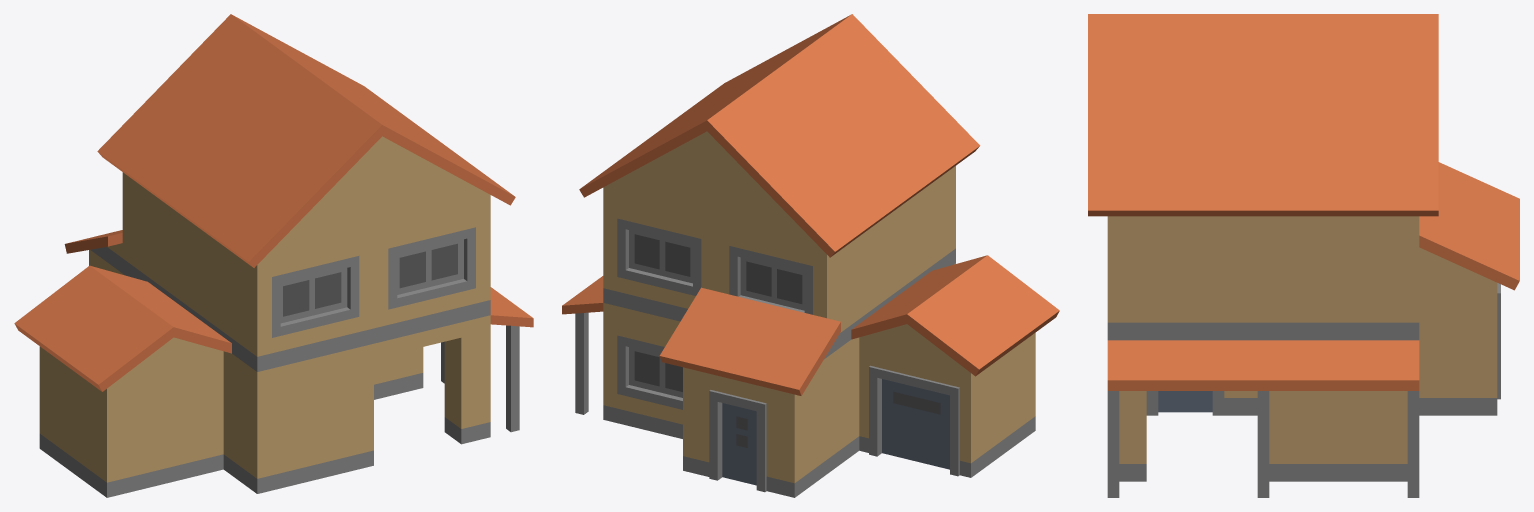
Rendered from SM_Suburb_House_016.fbx.
The picture shows the model from 3 angles, left to right: view 1: azimuth 30°, elevation 25°; view 2: azimuth 150°, elevation 25°; view 3: azimuth 270°, elevation 25°; orthographic projection. The views are drawn at different scales.
Parts seen in each view (by area): view 1: SM_Suburb_House_016; view 2: SM_Suburb_House_016; view 3: SM_Suburb_House_016.
Part boxes in pixels (x1=…): SM_Suburb_House_016: x1=14, y1=14, x2=533, y2=497; SM_Suburb_House_016: x1=562, y1=14, x2=1059, y2=497; SM_Suburb_House_016: x1=1088, y1=14, x2=1519, y2=497.
Size of the model in its own units: 1012 by 819 by 798.
